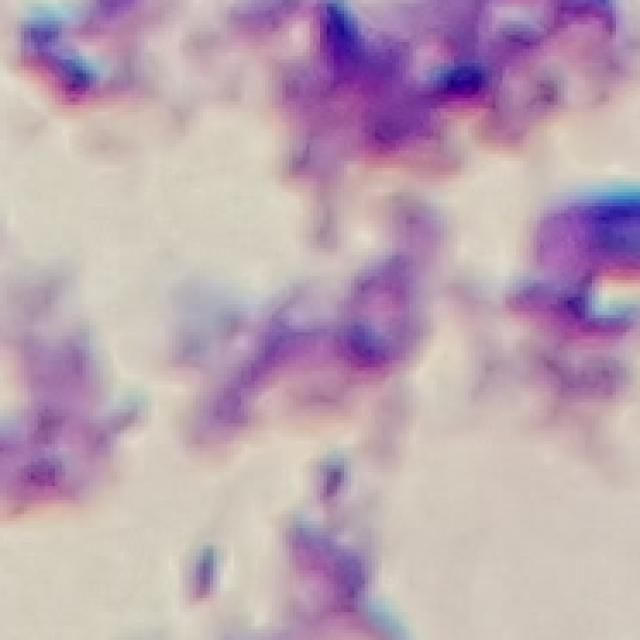non-sperm: (185, 249, 420, 450)
